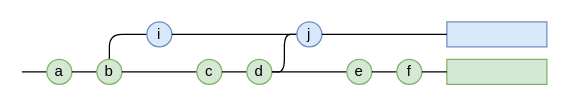
The diagram is 569 pixels wide and 106 high, and some of its shapes have lost their labels. Here are the shapes that lost their labels. From the top down, the box of each, then its label:
(446, 21, 547, 47): feature
(446, 58, 547, 84): main
